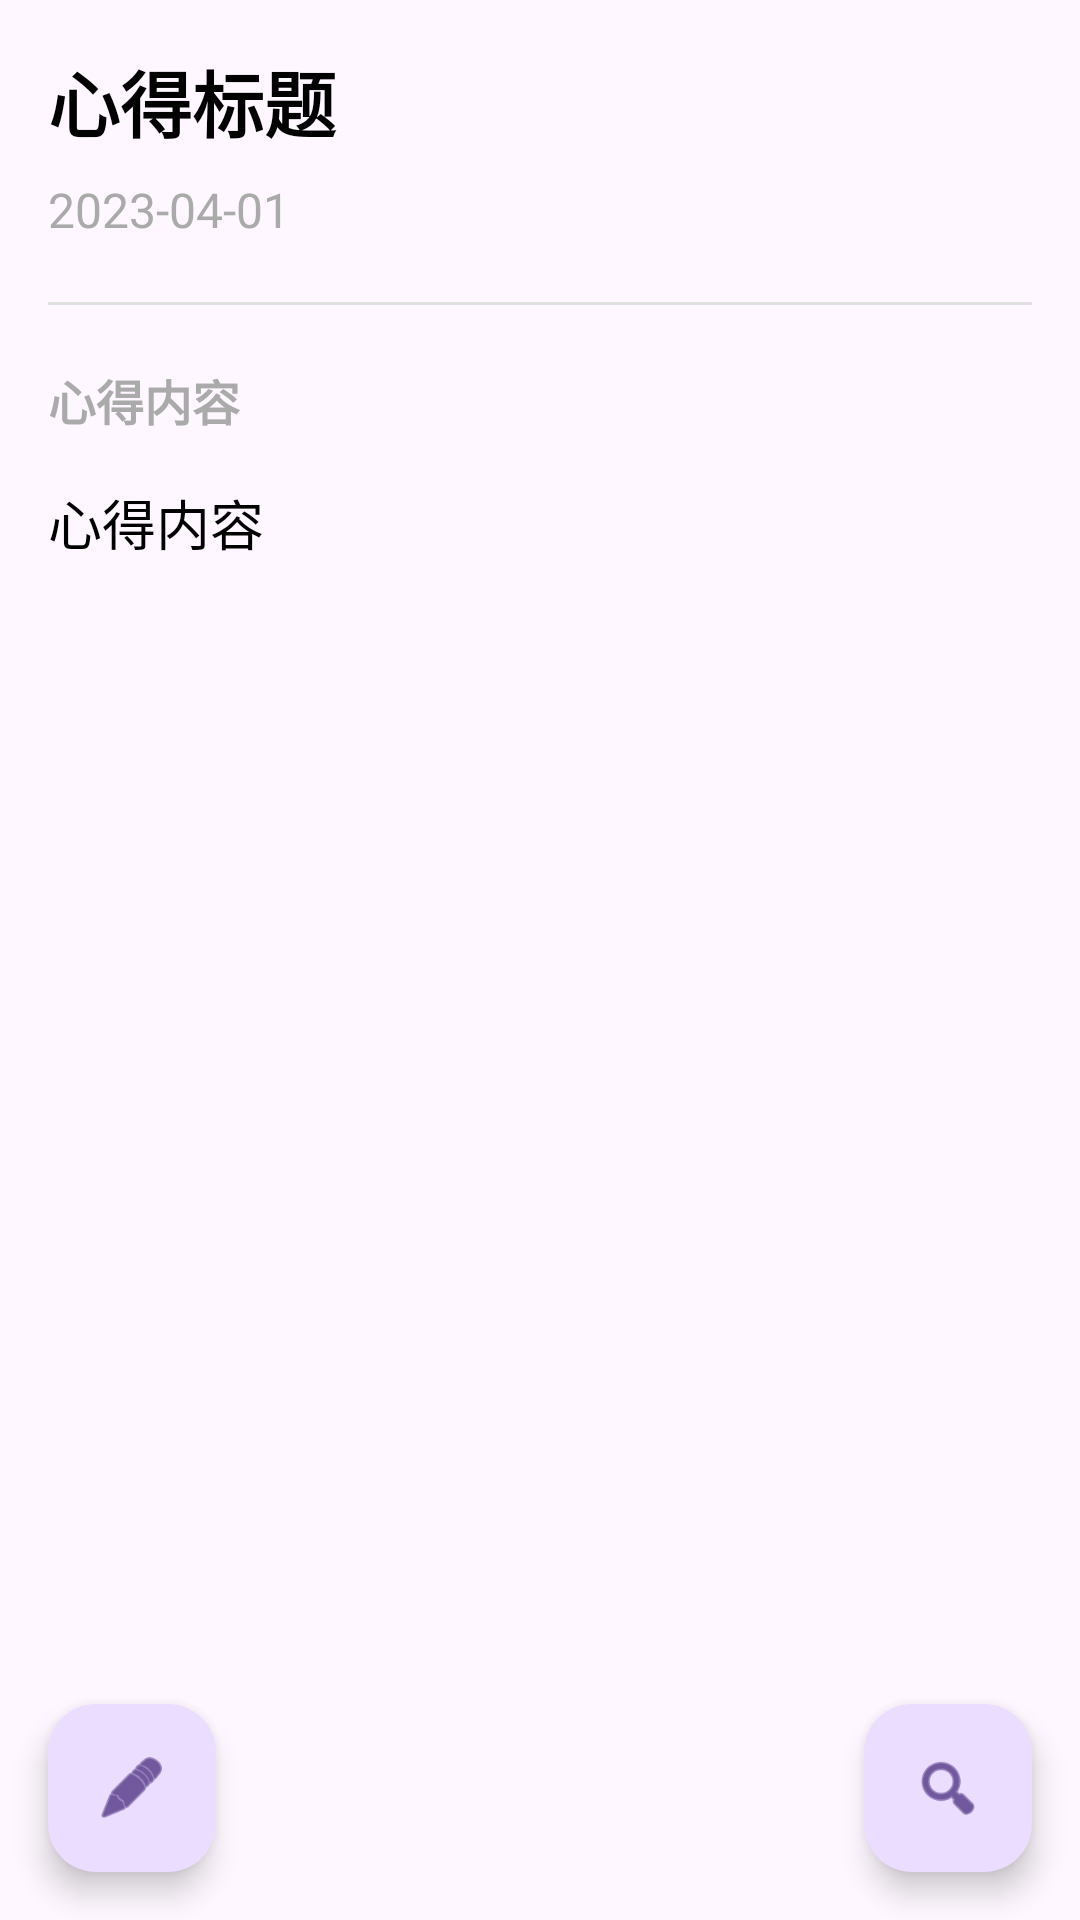

Locate icon controls on the screen. Image size 1080*1920, boxes as {"left": x1, "top": y1, "right": x2, "bottom": y2}.
edit: {"left": 48, "top": 1704, "right": 216, "bottom": 1872}
search: {"left": 864, "top": 1704, "right": 1032, "bottom": 1872}
